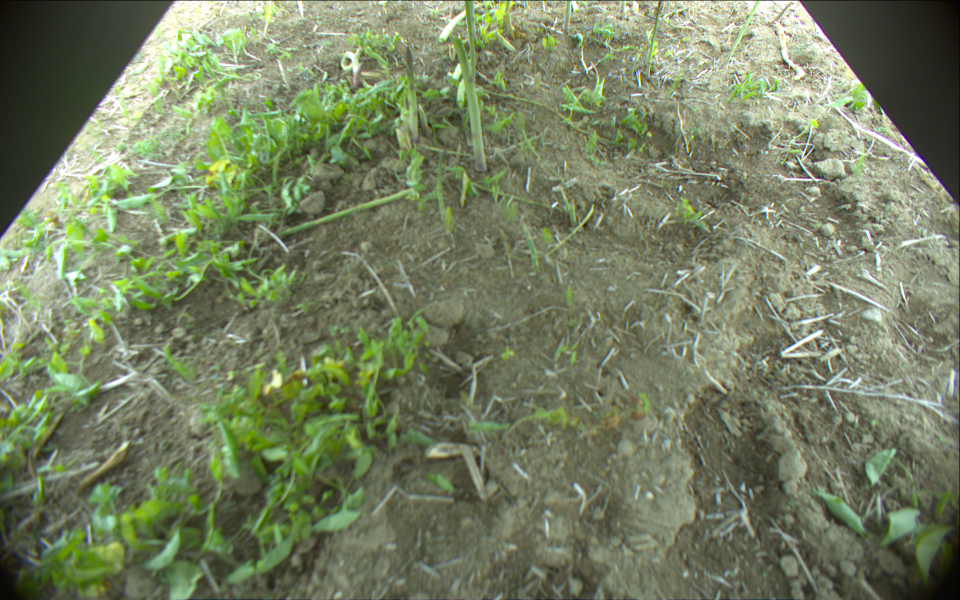aspa: (273, 187, 417, 242), (454, 35, 487, 173), (726, 1, 760, 66), (439, 1, 484, 44), (405, 43, 420, 141), (647, 1, 661, 77), (463, 1, 476, 79), (342, 51, 363, 89), (563, 1, 573, 29), (620, 1, 626, 13)
